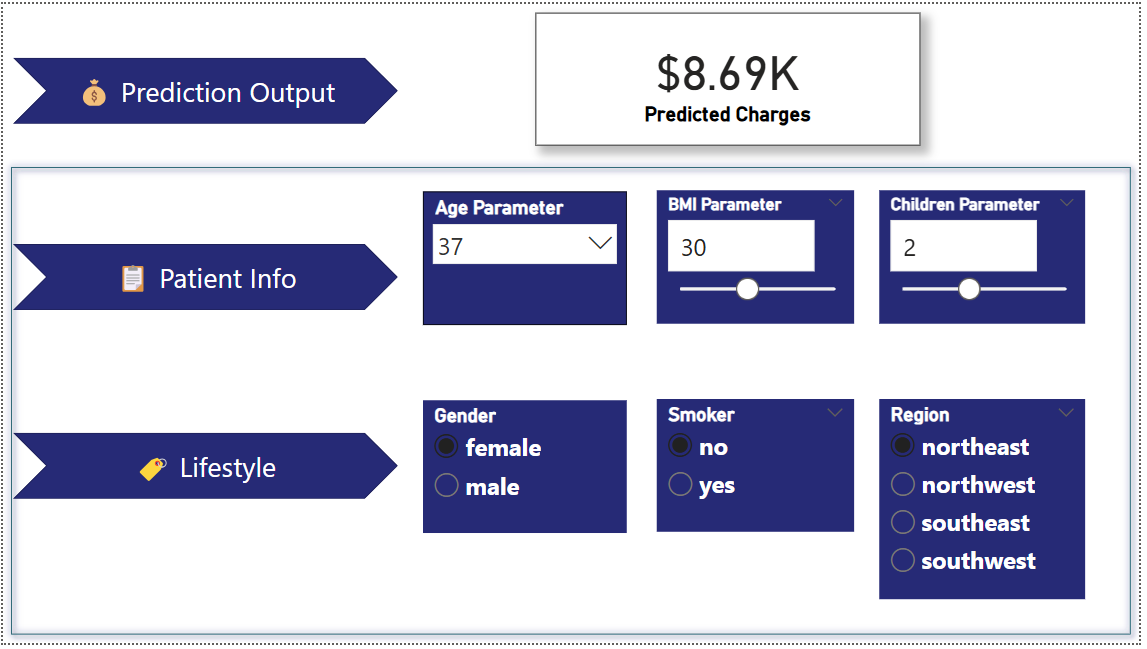

This screenshot's page, from the dashboard's own definition file:
{"tool":"powerbi","page":{"name":"Page 2","canvas":[1280,720],"ordinal":1},"visuals":[{"type":"shape","box":[0,174.6,1280.3,545.1],"z":0},{"type":"slicer","fields":{"Values":["Age Parameter.Age Parameter"]},"box":[473.2,211.3,229.6,150.7],"z":1000},{"type":"card","fields":{"Values":["insurance.Predicted Charges"]},"box":[600,9.9,433.8,149.3],"z":2000},{"type":"slicer","fields":{"Values":["BMI Parameter.BMI Parameter"]},"box":[736.6,209.9,222.5,150.7],"z":3000},{"type":"slicer","fields":{"Values":["Children Parameter.Children Parameter"]},"box":[987.3,209.9,232.4,150.7],"z":4000},{"type":"slicer","fields":{"Values":["sex_table.sex"]},"box":[473.2,446.5,229.6,149.3],"z":5000},{"type":"slicer","fields":{"Values":["smoker_table.smoker"]},"box":[736.6,445.1,222.5,149.3],"z":6000},{"type":"slicer","fields":{"Values":["region_table.region"]},"box":[987.3,445.1,232.4,225.4],"z":7000},{"type":"shape","box":[11.3,60.6,433.8,74.6],"z":8000},{"type":"shape","box":[11.3,270.4,433.8,74.6],"z":9000},{"type":"shape","box":[11.3,483.1,433.8,74.6],"z":10000}]}

Visuals, with their boxes in screenshot pixels (x1, y1, x2, y2), scaled from the page's 1280x720 canvas onto the 1147x649 screenshot:
shape: x1=0 y1=157 x2=1146 y2=648
slicer - Age Parameter.Age Parameter: x1=424 y1=190 x2=630 y2=326
card - insurance.Predicted Charges: x1=538 y1=9 x2=926 y2=144
slicer - BMI Parameter.BMI Parameter: x1=660 y1=189 x2=859 y2=325
slicer - Children Parameter.Children Parameter: x1=885 y1=189 x2=1093 y2=325
slicer - sex_table.sex: x1=424 y1=402 x2=630 y2=537
slicer - smoker_table.smoker: x1=660 y1=401 x2=859 y2=536
slicer - region_table.region: x1=885 y1=401 x2=1093 y2=604
shape: x1=10 y1=55 x2=399 y2=122
shape: x1=10 y1=244 x2=399 y2=311
shape: x1=10 y1=435 x2=399 y2=503
